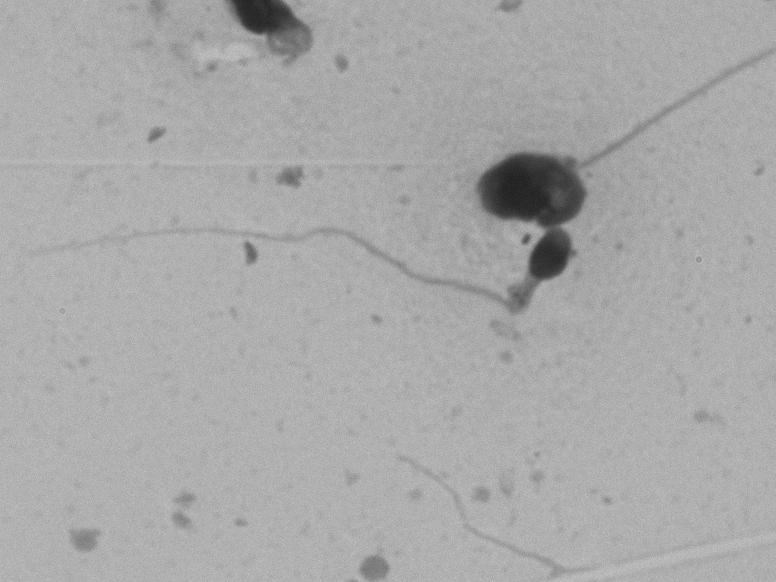Abnormal: (35, 219, 589, 363)
